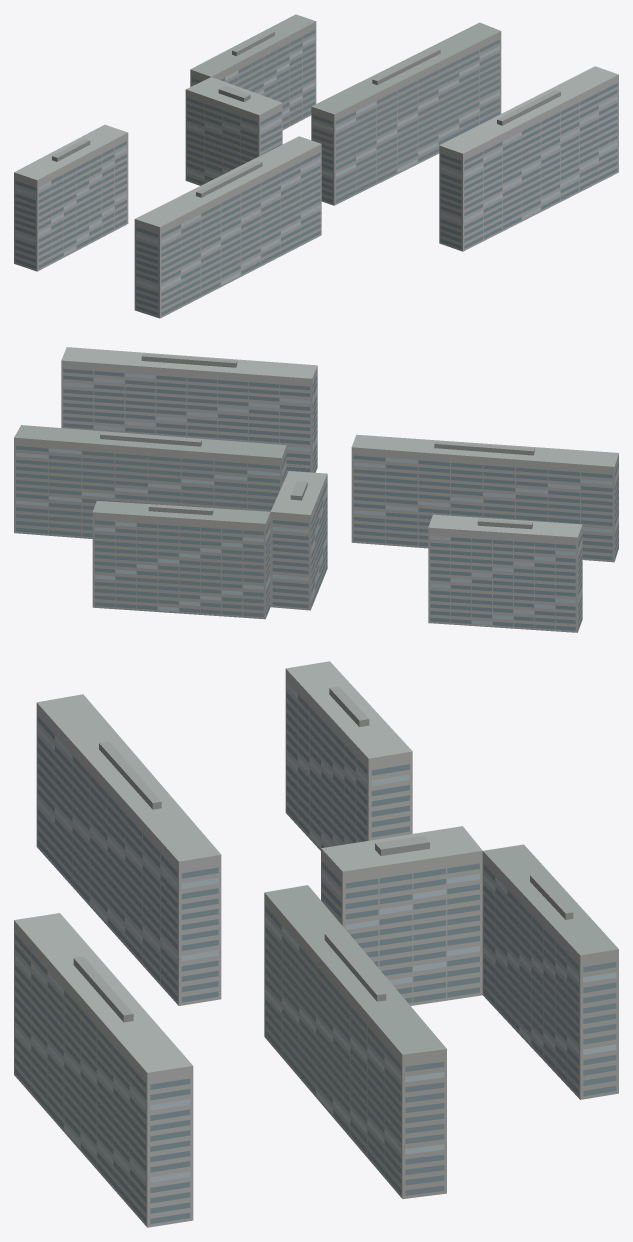
The model's file is apt-a13583402.glb.
3 renders of one model, top to bottom at view 1: azimuth 30°, elevation 25°; view 2: azimuth 150°, elevation 25°; view 3: azimuth 270°, elevation 25°, orthographic. The views are drawn at different scales.
Visible parts, largest first — view 1: apt-a13583402; view 2: apt-a13583402; view 3: apt-a13583402.
Boxes of the visible parts, x1,y1,x2,y2 form: apt-a13583402: [14, 14, 618, 318]; apt-a13583402: [14, 347, 618, 632]; apt-a13583402: [14, 661, 618, 1227].
Size of the model in its own units: 267 by 47.81 by 162.
